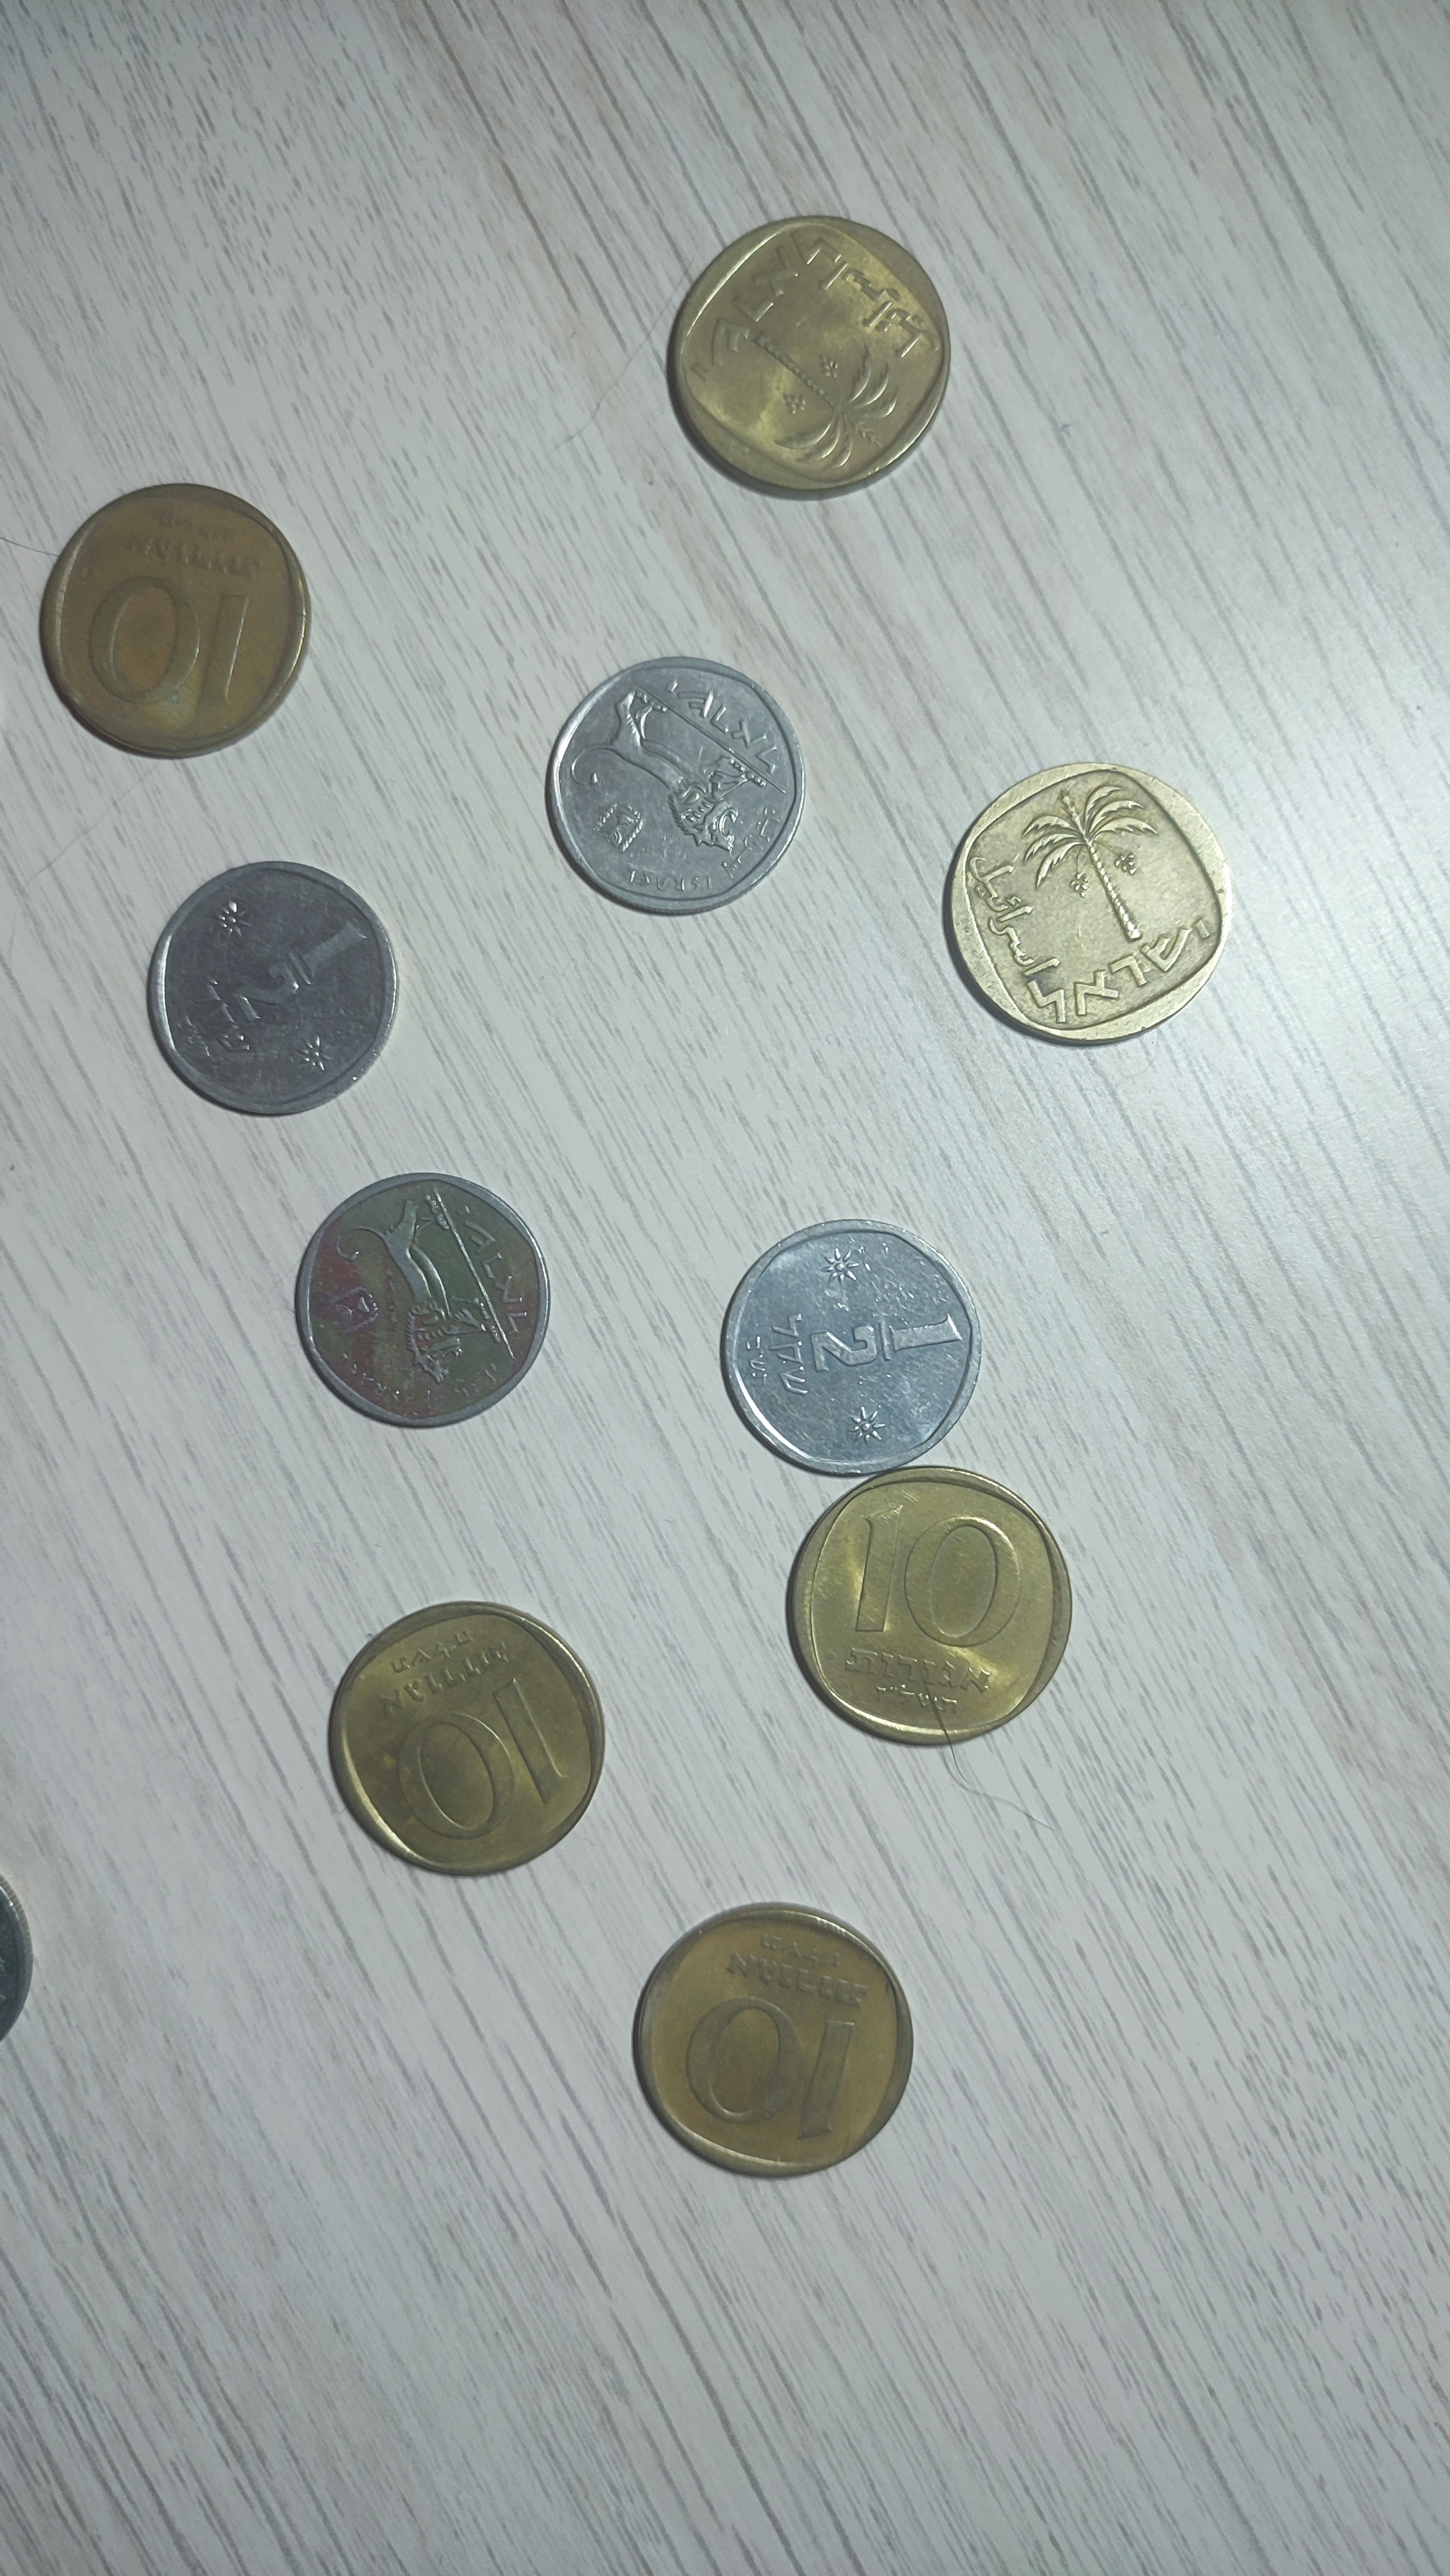1/2 old sheqel: (716, 1212, 988, 1483), (543, 653, 813, 924), (140, 853, 407, 1125), (288, 1168, 557, 1435)
10 old agora brown: (658, 211, 957, 511), (939, 755, 1236, 1051), (780, 1463, 1073, 1757), (628, 1895, 918, 2185), (324, 1598, 608, 1884), (34, 481, 317, 764)
